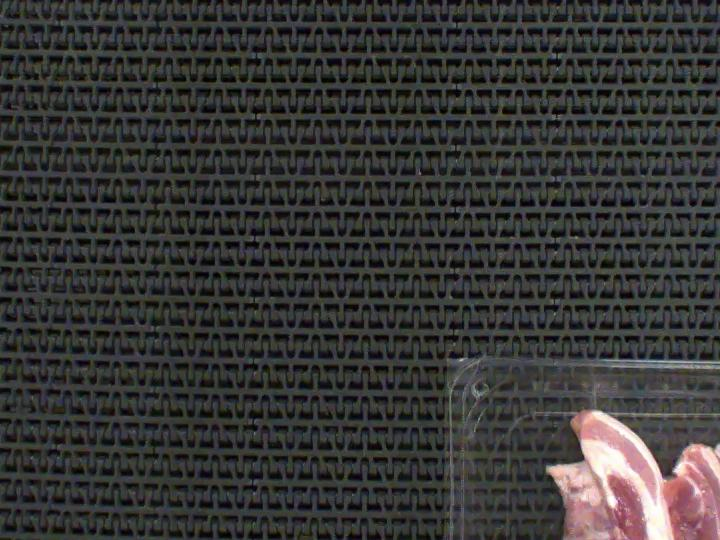packaging-error: (580, 376, 606, 414)
